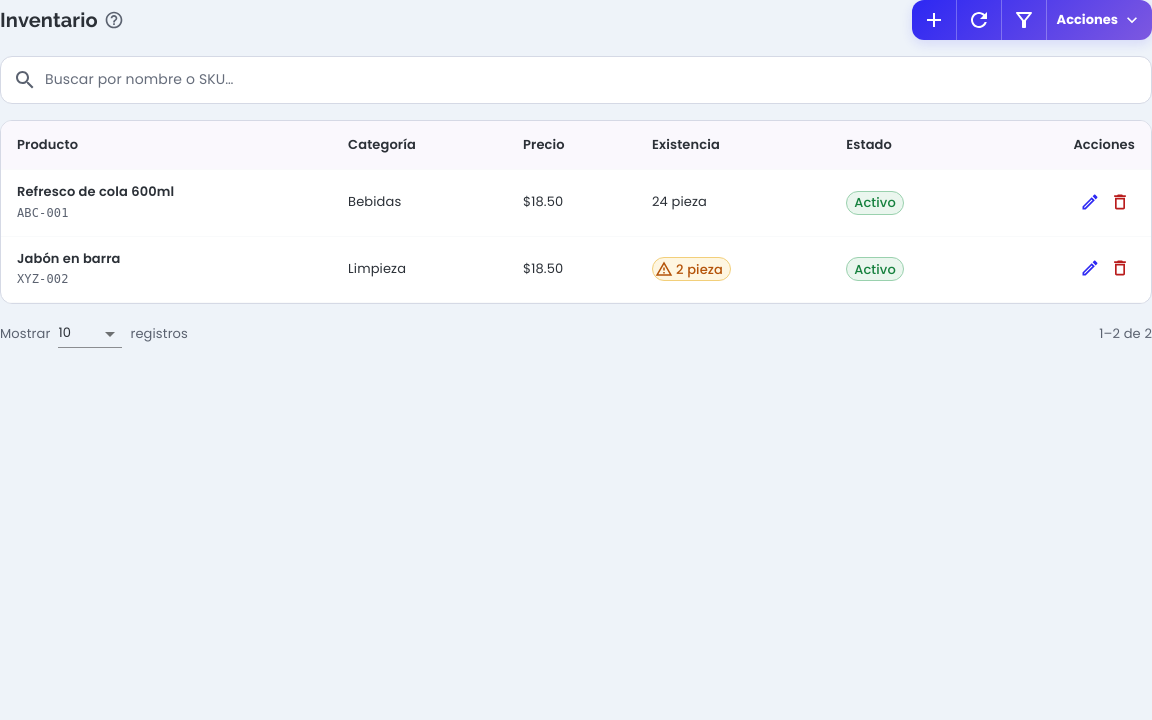
Test: <InventoryPage /> › crea un producto desde el diálogo
Expected: the row "Refresco de cola" is shown, [1, 170, 1151, 236]
Click the button named "Nuevo producto". click: (934, 20)
box: [912, 0, 956, 40]
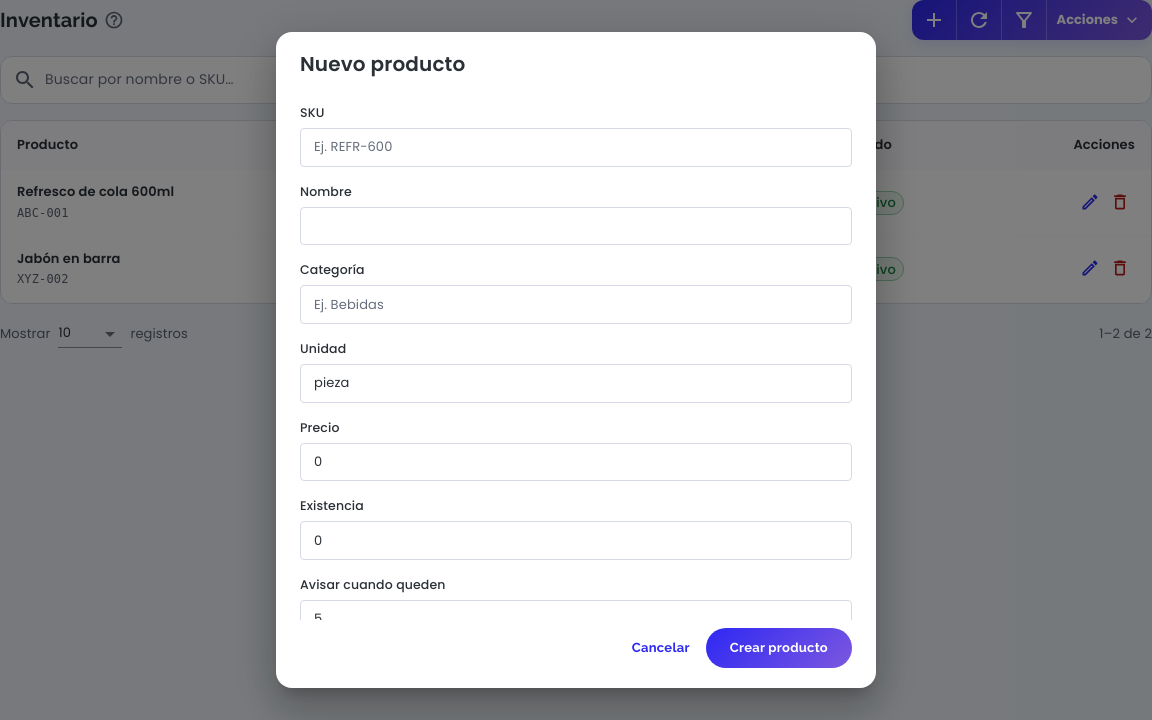
Type "new-1" into the field labelled "SKU". click: (576, 147)
box: [300, 128, 852, 167]
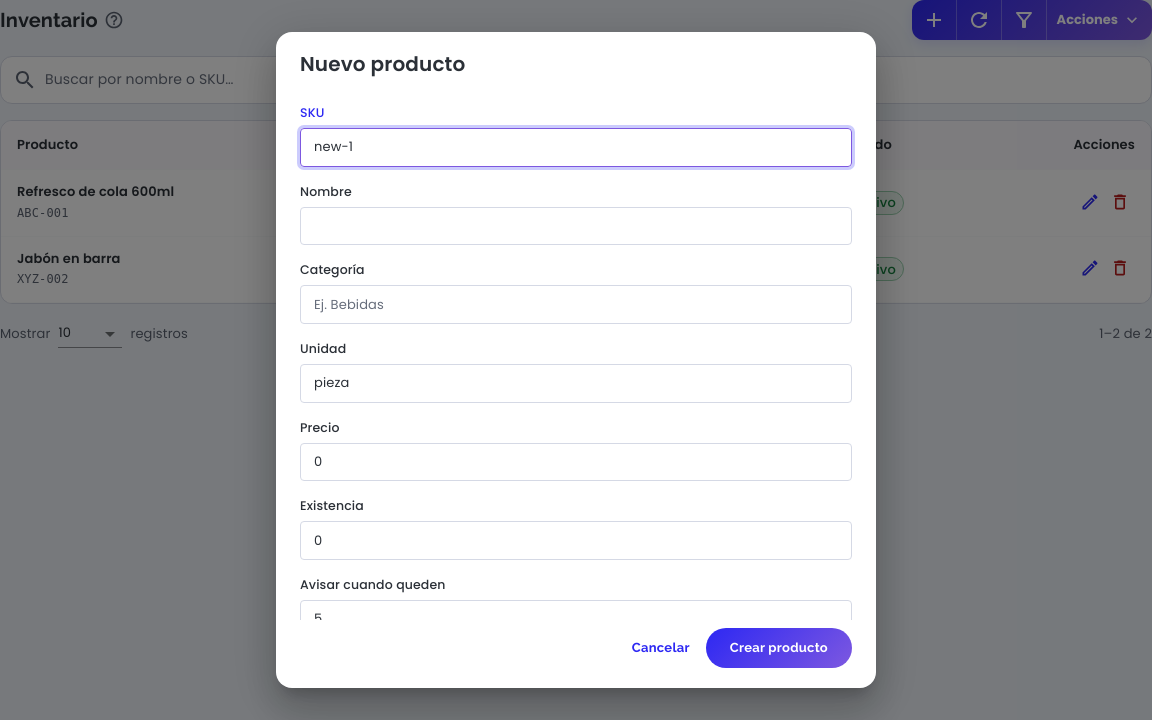
Type "Producto nuevo" into the field labelled "Nombre". click: (576, 226)
box: [300, 207, 852, 245]
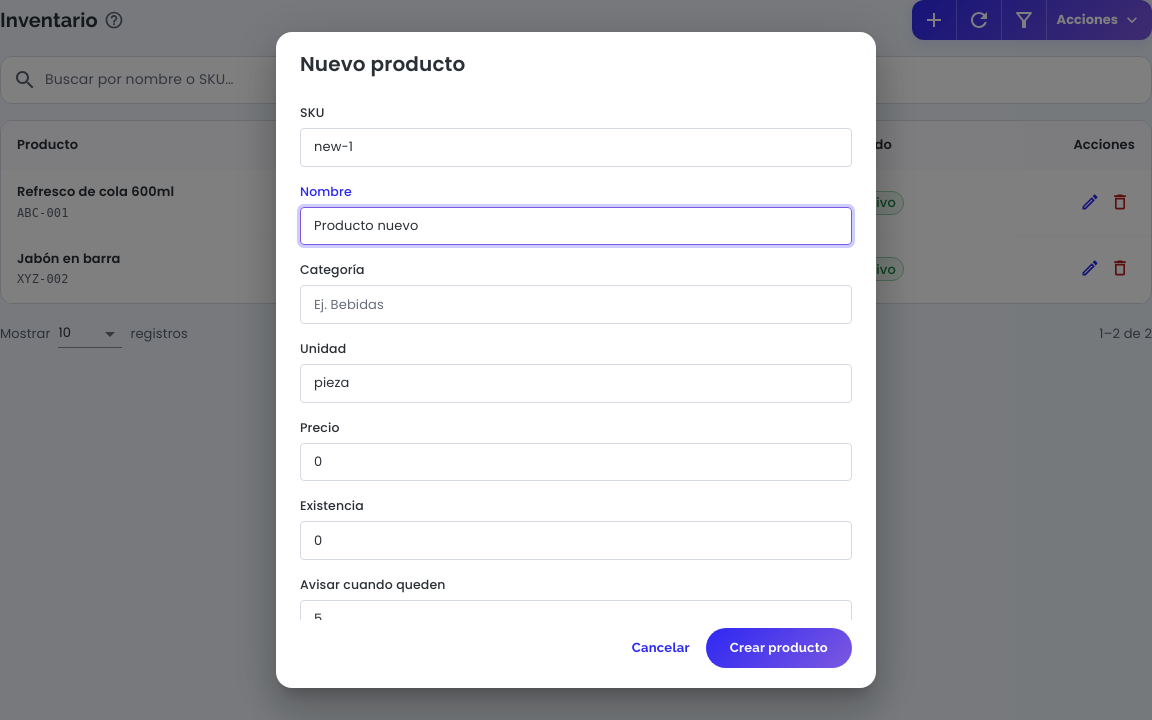
Replace the text in the number field labelled "Precio" with "12.5". click: (576, 462)
box: [300, 443, 852, 481]
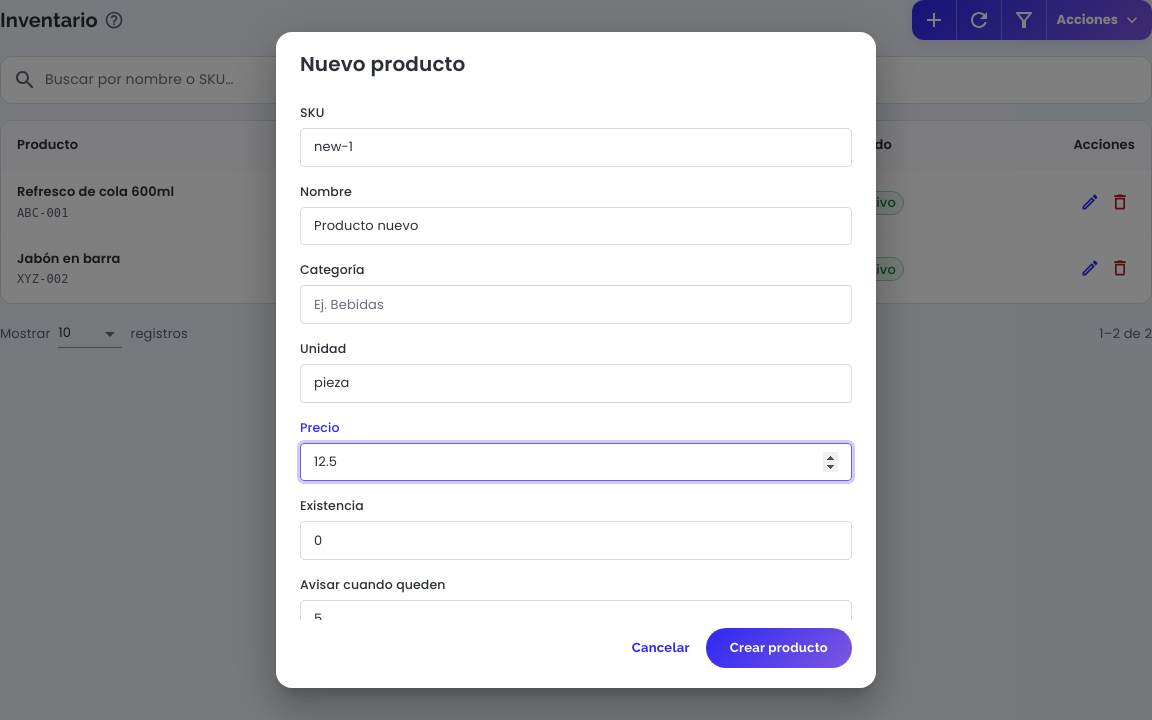
Replace the text in the number field labelled "Existencia" with "10". click: (576, 541)
box: [300, 521, 852, 560]
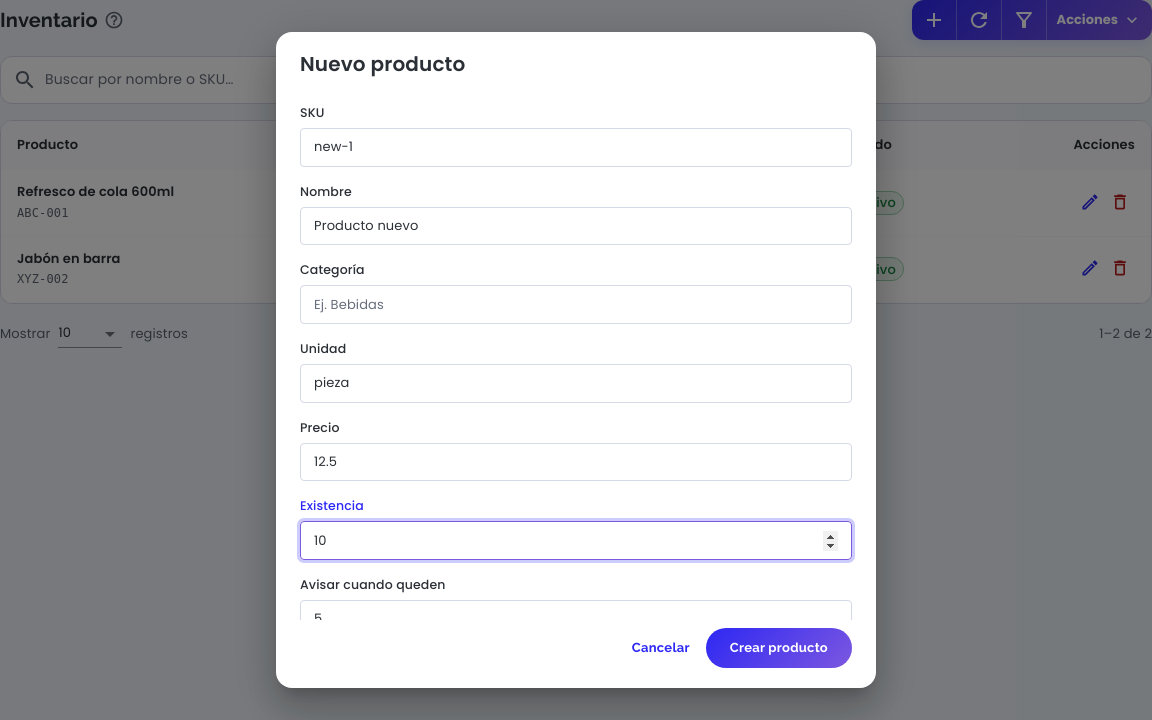
Click the button "Crear producto". click: (779, 648)
box: [706, 628, 852, 668]
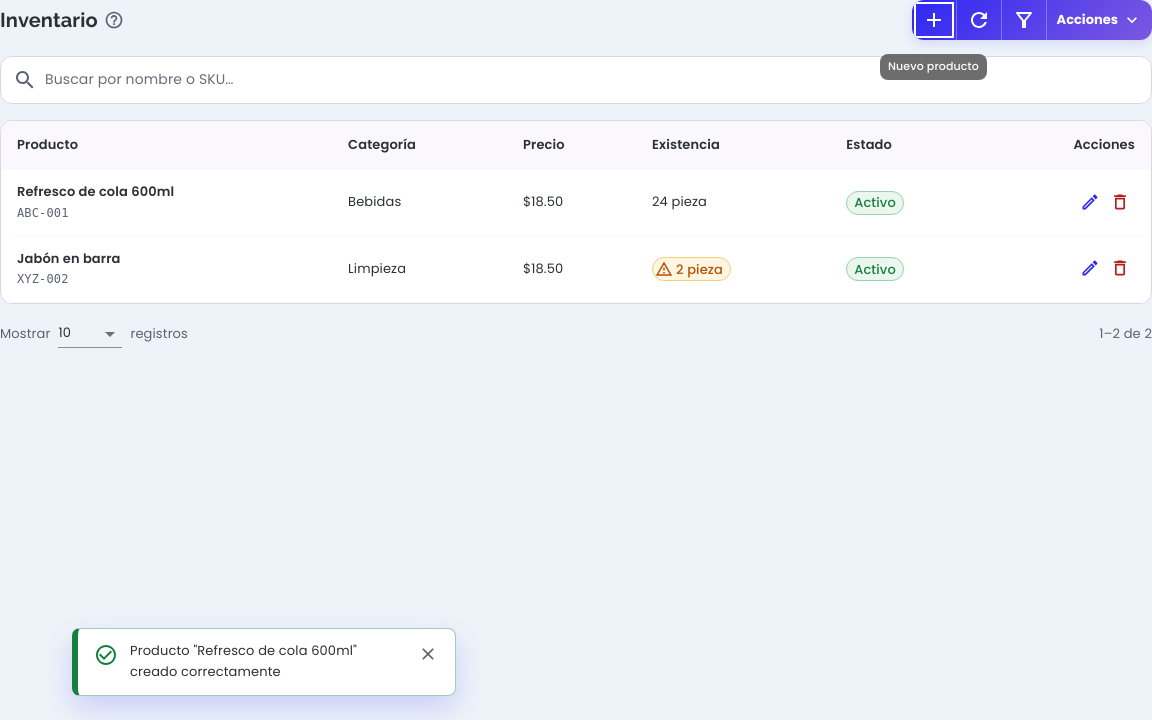
Expected: the element named "Notificaciones" shows "creado correctamente", [130, 641, 357, 681]
